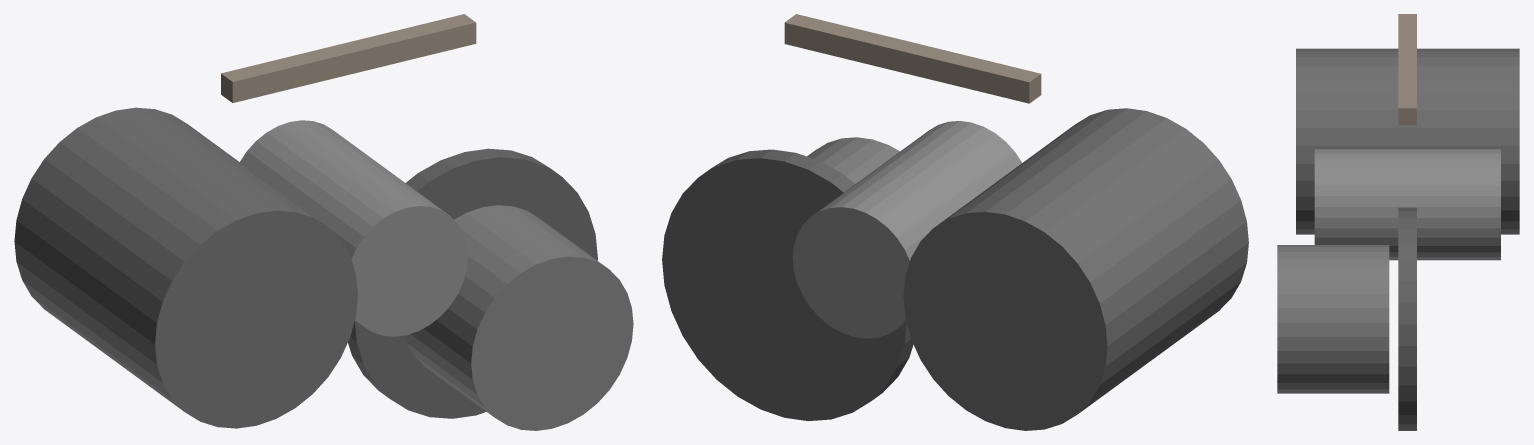
The model's file is hero.glb.
3 views of the same model, side by side, from view 1: azimuth 30°, elevation 25°; view 2: azimuth 150°, elevation 25°; view 3: azimuth 270°, elevation 25° (orthographic). The views are drawn at different scales.
Visible parts, largest first — view 1: boiler, condenser, cylinder, flywheel, beam; view 2: boiler, flywheel, cylinder, beam, condenser; view 3: boiler, cylinder, condenser, flywheel, beam.
Boxes of the visible parts, bbox=[...] form: boiler: bbox=[14, 107, 357, 428]; condenser: bbox=[404, 205, 633, 430]; cylinder: bbox=[240, 120, 467, 336]; flywheel: bbox=[348, 148, 597, 418]; beam: bbox=[221, 14, 476, 102]; boiler: bbox=[903, 108, 1248, 430]; flywheel: bbox=[662, 149, 913, 420]; cylinder: bbox=[792, 121, 1021, 338]; beam: bbox=[784, 14, 1041, 103]; condenser: bbox=[807, 137, 899, 183]; boiler: bbox=[1296, 48, 1519, 234]; cylinder: bbox=[1314, 149, 1500, 260]; condenser: bbox=[1277, 245, 1389, 393]; flywheel: bbox=[1398, 207, 1416, 430]; beam: bbox=[1398, 14, 1416, 125].
Bounding box in the file's own units: 1.25 × 0.925 × 0.65.
